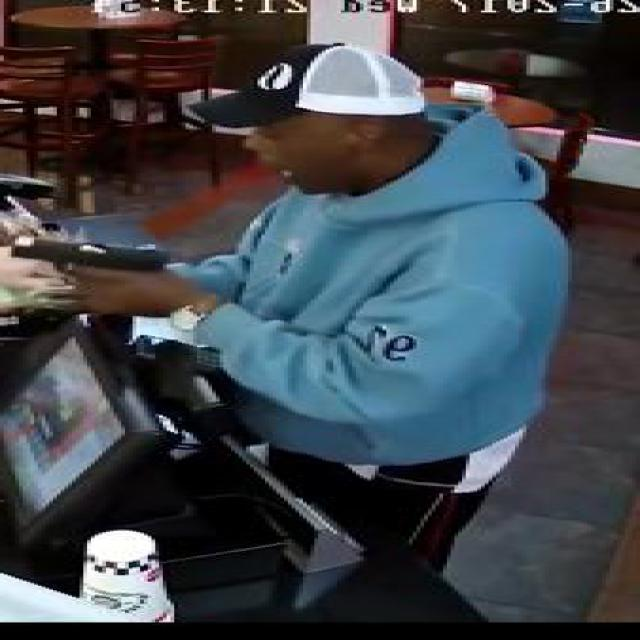Gun: (11, 234, 170, 306)
